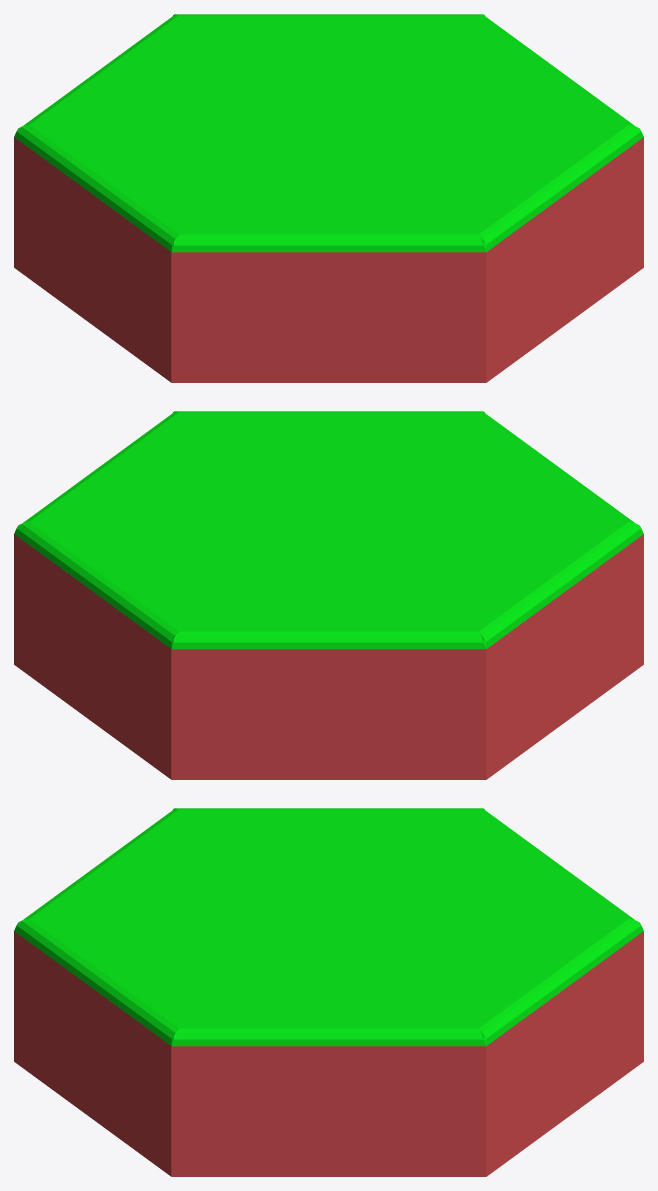
File: hexagone.fbx
3 views of the same model, one above another, from view 1: azimuth 30°, elevation 25°; view 2: azimuth 150°, elevation 25°; view 3: azimuth 270°, elevation 25° (orthographic).
Visible parts, largest first — view 1: Hexagone; view 2: Hexagone; view 3: Hexagone.
Part boxes in pixels (box(x1,y1,x2,y2)): Hexagone: box(14, 14, 643, 382); Hexagone: box(14, 411, 643, 779); Hexagone: box(14, 808, 643, 1176).
Bounding box in the file's own units: 2 × 1.73 × 0.5.
